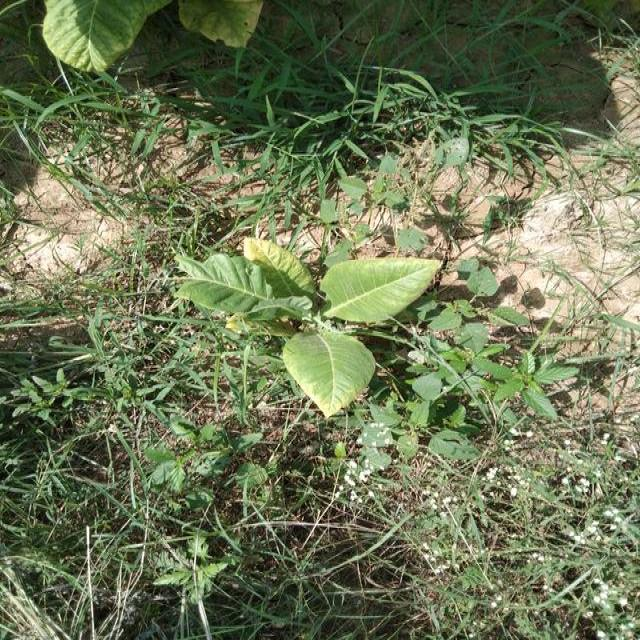crop: (188, 232, 447, 422)
